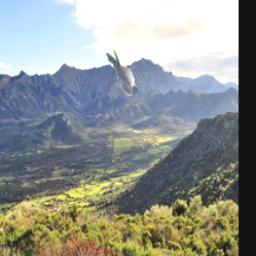Swallow: (107, 48, 139, 96)
